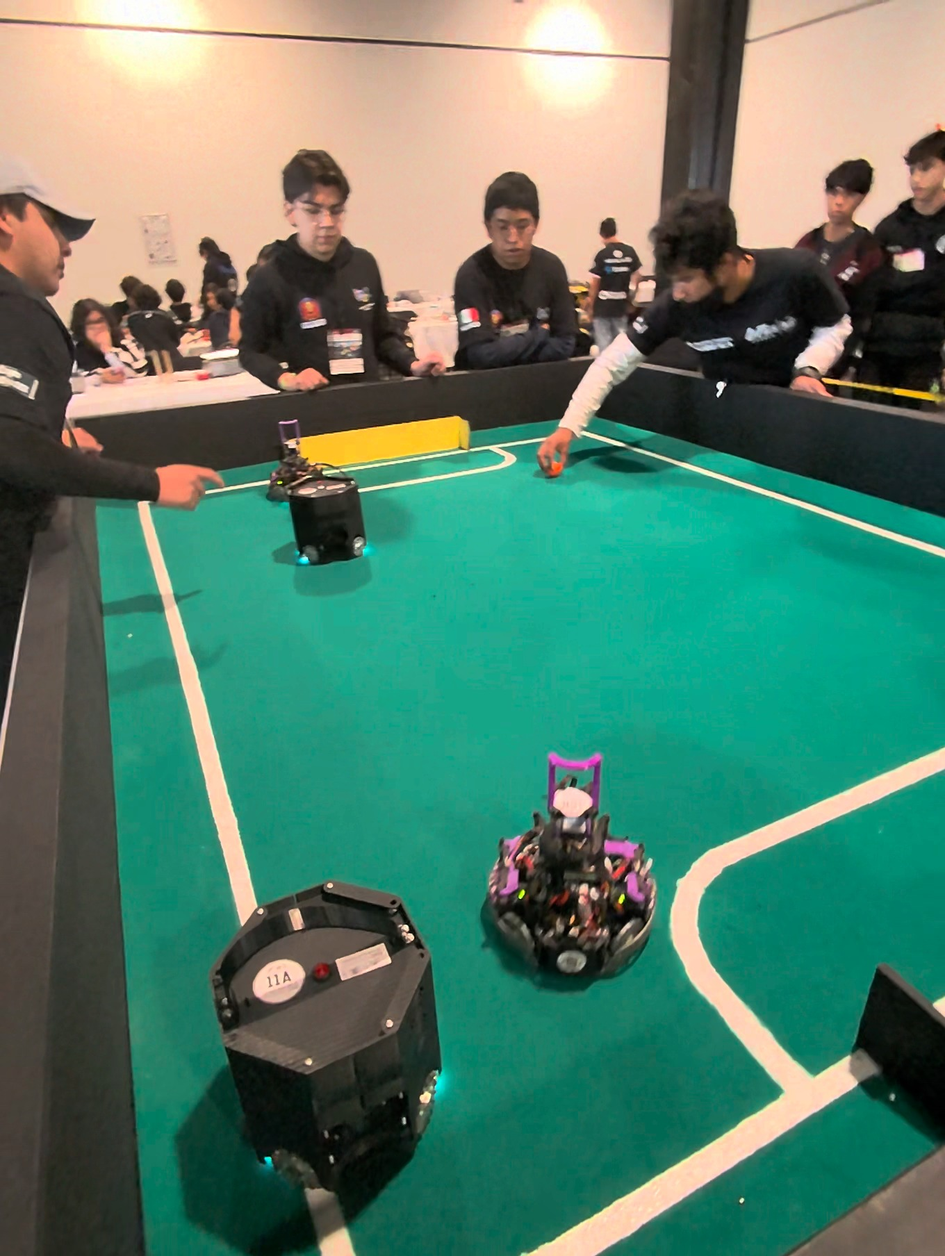Robot: (190, 834, 466, 1188), (482, 770, 660, 990), (275, 471, 384, 575), (263, 413, 314, 503)
pelota: (535, 434, 577, 489)
